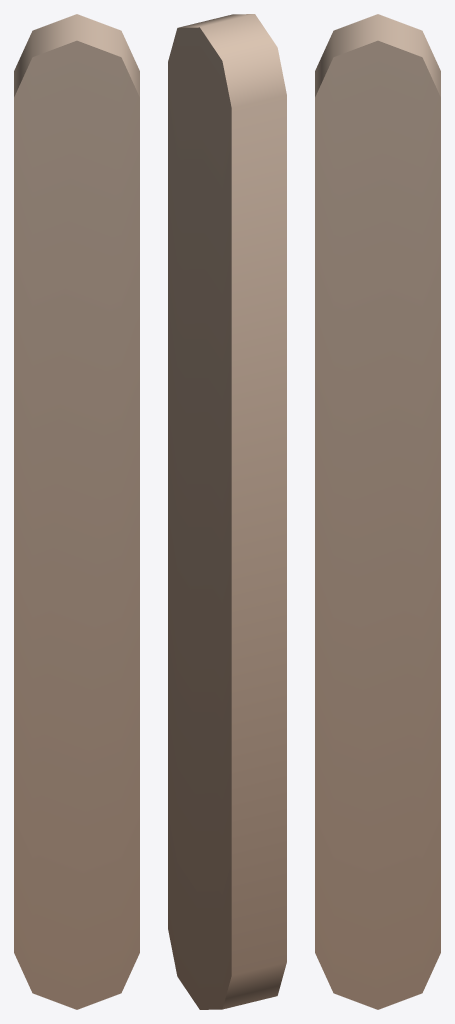
Rendered from popsicle-stick.glb.
The picture shows the model from 3 angles, left to right: view 1: azimuth 90°, elevation 25°; view 2: azimuth 210°, elevation 25°; view 3: azimuth 270°, elevation 25°; orthographic projection.
Visible parts, largest first — view 1: popsicle-stick; view 2: popsicle-stick; view 3: popsicle-stick.
Boxes of the visible parts, x1=… form: popsicle-stick: x1=14, y1=14, x2=139, y2=1009; popsicle-stick: x1=168, y1=14, x2=286, y2=1009; popsicle-stick: x1=315, y1=14, x2=440, y2=1009.
Bounding box in the file's own units: 0.02 × 0.34 × 0.04.
